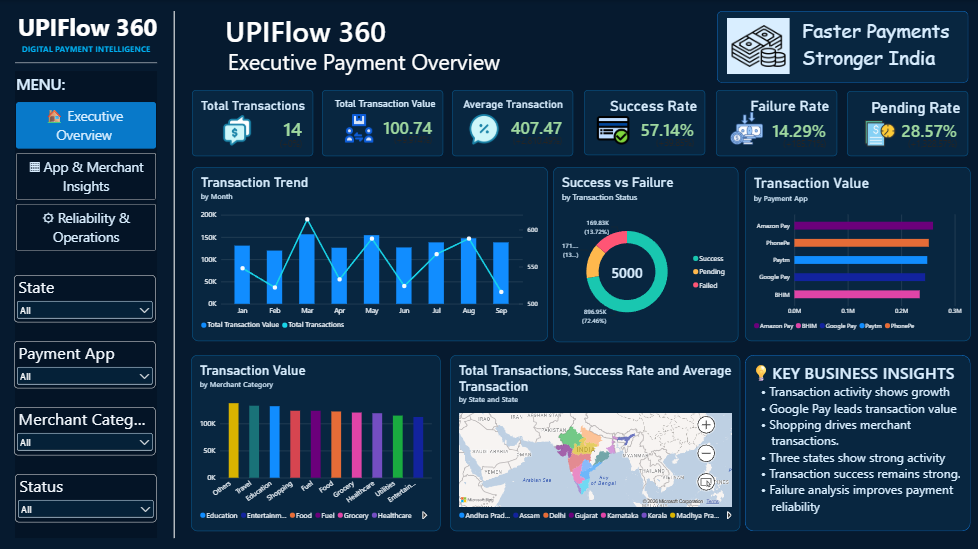

This screenshot's page, from the dashboard's own definition file:
{"tool":"powerbi","page":{"name":"🏠 Executive Overview","canvas":[1920,1080],"ordinal":0},"visuals":[{"type":"shape","title":"UPIFlow 360","box":[28.7,22,279,1035],"z":0},{"type":"shape","box":[1408.4,22,493.7,141.1],"z":0,"group":"g2"},{"type":"textbox","box":[381.3,22,1196,70],"z":1000},{"type":"textbox","box":[1415.9,29.7,479.3,125.6],"z":1000,"group":"g2"},{"type":"shape","box":[308.6,22,67.5,1035],"z":2000},{"type":"textbox","box":[376.9,92.6,1199,70.5],"z":3000},{"type":"slicer","fields":{"Values":["upiflow360 upi_transactions.state"]},"box":[28.3,540,278.3,93.3],"z":4000},{"type":"slicer","fields":{"Values":["upiflow360 upi_transactions.payment_app"]},"box":[28.3,670,278.3,93.3],"z":5000},{"type":"slicer","fields":{"Values":["upiflow360 upi_transactions.merchant_category"]},"box":[28.3,798.3,278.3,95],"z":6000},{"type":"slicer","fields":{"Values":["upiflow360 upi_transactions.transaction_status"]},"box":[30,931.7,278.3,95],"z":7000},{"type":"kpi","title":"Total Transactions","fields":{"Goal":["CountNonNull(upiflow360 upi_transactions.transaction_id)"],"Indicator":["Calculations.Total Transactions"],"TrendLine":["upiflow360 upi_transactions.transaction_date"]},"box":[376.9,176.3,238,130],"z":8000},{"type":"kpi","title":"Total Transaction Value","fields":{"Goal":["CountNonNull(upiflow360 upi_transactions.transaction_date)"],"Indicator":["Calculations.Total Transaction Value"],"TrendLine":["upiflow360 upi_transactions.transaction_id"]},"box":[632.6,176.3,238,130],"z":9000},{"type":"kpi","title":"Pending Rate","fields":{"Goal":["Calculations.Pending Rate Target"],"Indicator":["Calculations.Pending Rate"],"TrendLine":["upiflow360 upi_transactions.transaction_date"]},"box":[1664.1,178.5,238,127.8],"z":10000},{"type":"kpi","title":"Success Rate","fields":{"Goal":["Calculations.Success Rate Target"],"Indicator":["Calculations.Success Rate"],"TrendLine":["upiflow360 upi_transactions.transaction_date"]},"box":[1146.1,176.3,238,127.8],"z":11000},{"type":"kpi","title":"Average Transaction","fields":{"Goal":["CountNonNull(upiflow360 upi_transactions.transaction_id)"],"Indicator":["Calculations.Average Transaction"],"TrendLine":["upiflow360 upi_transactions.transaction_date"]},"box":[888.2,176.3,238,130],"z":12000},{"type":"kpi","title":"Failure Rate","fields":{"Goal":["Calculations.Failure Rate Target"],"Indicator":["Calculations.Failure Rate"],"TrendLine":["upiflow360 upi_transactions.transaction_date"]},"box":[1406.2,176.3,238,130],"z":13000},{"type":"lineClusteredColumnComboChart","title":"Transaction Trend","fields":{"Category":["DimDate.Month"],"Y":["Calculations.Total Transaction Value"],"Y2":["Calculations.Total Transactions"]},"box":[376.9,328.4,698.7,341.6],"z":14000},{"type":"donutChart","title":"Success vs Failure","fields":{"Category":["upiflow360 upi_transactions.transaction_status"],"Y":["Calculations.Total Transaction Value"]},"box":[1086.6,328.4,363.7,343.8],"z":15000},{"type":"barChart","title":"Transaction Value","fields":{"Category":["upiflow360 upi_transactions.payment_app"],"Series":["DimPaymentApp.Payment_App"],"Y":["Calculations.Total Transaction Value"]},"box":[1463.5,328.4,443,341.6],"z":16000},{"type":"columnChart","title":"Transaction Value","fields":{"Category":["upiflow360 upi_transactions.merchant_category"],"Series":["DimMerchantCategory.Merchant_Category"],"Y":["Calculations.Total Transaction Value"]},"box":[376,698,490,346],"z":17000},{"type":"filledMap","fields":{"Category":["DimLocation.State"],"Series":["DimLocation.State"]},"box":[884,698,570,346],"z":18000},{"type":"pageNavigator","title":"   MENU:","box":[30.9,143.3,275.5,350.4],"z":19000},{"type":"shape","box":[1463.5,698.6,443,346],"z":19000,"group":"g3"},{"type":"group","id":"g1","title":"Group 1","box":[1408.4,22,493.7,141.1],"z":20000},{"type":"textbox","box":[1454.7,672.2,447.4,372.5],"z":20000,"group":"g3"},{"type":"group","id":"g2","title":"Group 2","box":[1408.4,22,493.7,141.1],"z":21000,"group":"g1"},{"type":"group","id":"g3","title":"Group 3","box":[1454.7,672.2,451.8,372.5],"z":21000},{"type":"image","box":[1429,35.5,123.4,110.1],"z":22000,"group":"g1"},{"type":"image","box":[401.1,224.8,130,63.9],"z":22000},{"type":"image","box":[639.2,220.4,130,63.9],"z":23000},{"type":"image","box":[886,222.6,130,63.9],"z":24000},{"type":"image","box":[1139.5,224.8,130,63.9],"z":25000},{"type":"image","box":[1397.4,220.4,136.7,63.9],"z":26000},{"type":"image","box":[1664.1,229.2,130,63.9],"z":27000}]}

Visuals, with their boxes in screenshot pixels (x1, y1, x2, y2), scaled from the page's 1920x1080 canvas onto the 978x549 screenshot:
"UPIFlow 360" shape: [left=15, top=11, right=157, bottom=537]
shape: [left=717, top=11, right=969, bottom=83]
textbox: [left=194, top=11, right=803, bottom=47]
textbox: [left=721, top=15, right=965, bottom=79]
shape: [left=157, top=11, right=192, bottom=537]
textbox: [left=192, top=47, right=803, bottom=83]
slicer - upiflow360 upi_transactions.state: [left=14, top=274, right=156, bottom=322]
slicer - upiflow360 upi_transactions.payment_app: [left=14, top=341, right=156, bottom=388]
slicer - upiflow360 upi_transactions.merchant_category: [left=14, top=406, right=156, bottom=454]
slicer - upiflow360 upi_transactions.transaction_status: [left=15, top=474, right=157, bottom=522]
"Total Transactions" kpi: [left=192, top=90, right=313, bottom=156]
"Total Transaction Value" kpi: [left=322, top=90, right=443, bottom=156]
"Pending Rate" kpi: [left=848, top=91, right=969, bottom=156]
"Success Rate" kpi: [left=584, top=90, right=705, bottom=155]
"Average Transaction" kpi: [left=452, top=90, right=574, bottom=156]
"Failure Rate" kpi: [left=716, top=90, right=838, bottom=156]
"Transaction Trend" lineClusteredColumnComboChart: [left=192, top=167, right=548, bottom=341]
"Success vs Failure" donutChart: [left=553, top=167, right=739, bottom=342]
"Transaction Value" barChart: [left=745, top=167, right=971, bottom=341]
"Transaction Value" columnChart: [left=192, top=355, right=441, bottom=531]
filledMap - DimLocation.State x DimLocation.State: [left=450, top=355, right=741, bottom=531]
"   MENU:" pageNavigator: [left=16, top=73, right=156, bottom=251]
shape: [left=745, top=355, right=971, bottom=531]
"Group 1" group: [left=717, top=11, right=969, bottom=83]
textbox: [left=741, top=342, right=969, bottom=531]
"Group 2" group: [left=717, top=11, right=969, bottom=83]
"Group 3" group: [left=741, top=342, right=971, bottom=531]
image: [left=728, top=18, right=791, bottom=74]
image: [left=204, top=114, right=271, bottom=147]
image: [left=326, top=112, right=392, bottom=145]
image: [left=451, top=113, right=518, bottom=146]
image: [left=580, top=114, right=647, bottom=147]
image: [left=712, top=112, right=781, bottom=145]
image: [left=848, top=117, right=914, bottom=149]
